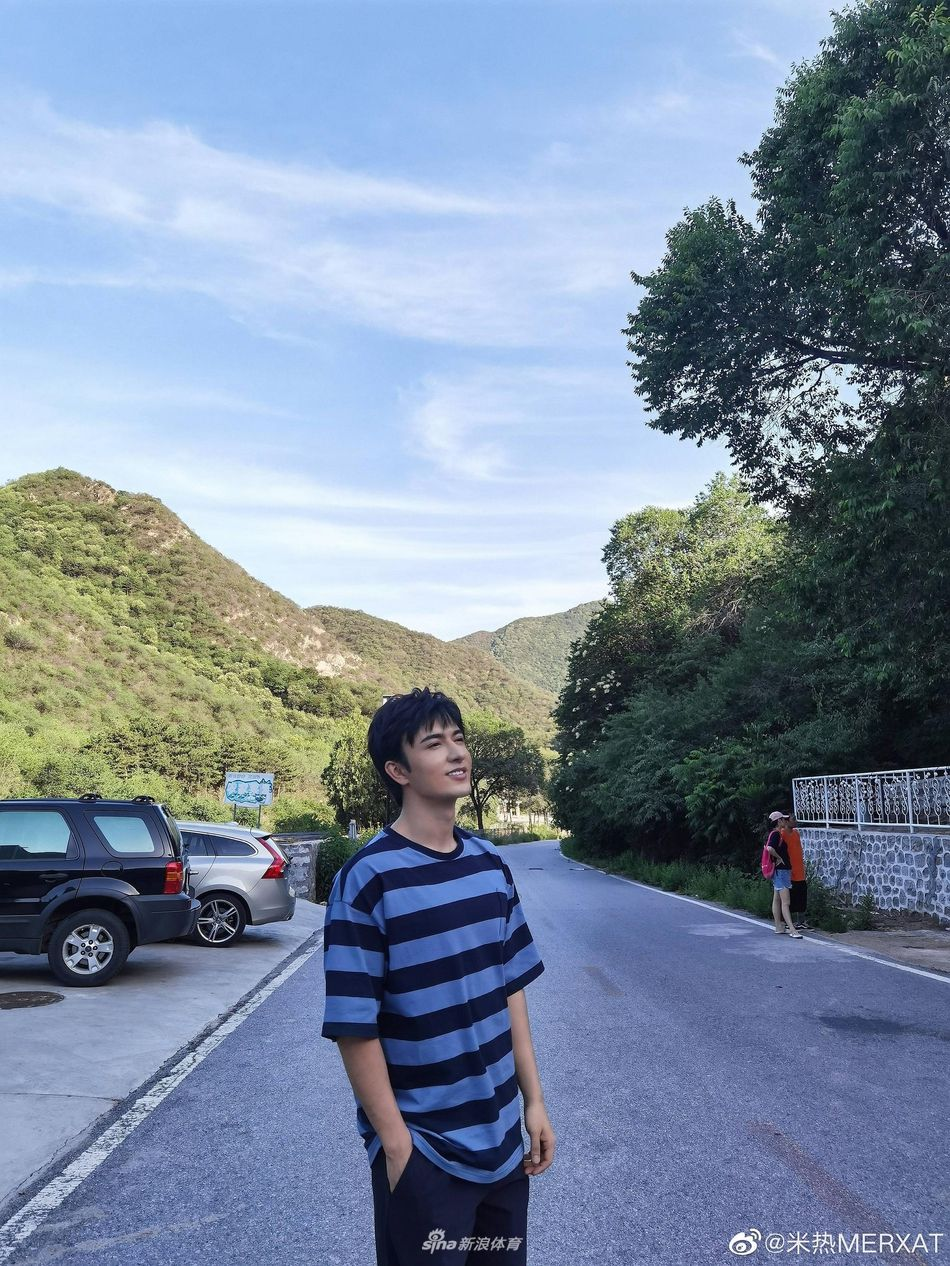person: (319, 691, 677, 1266)
